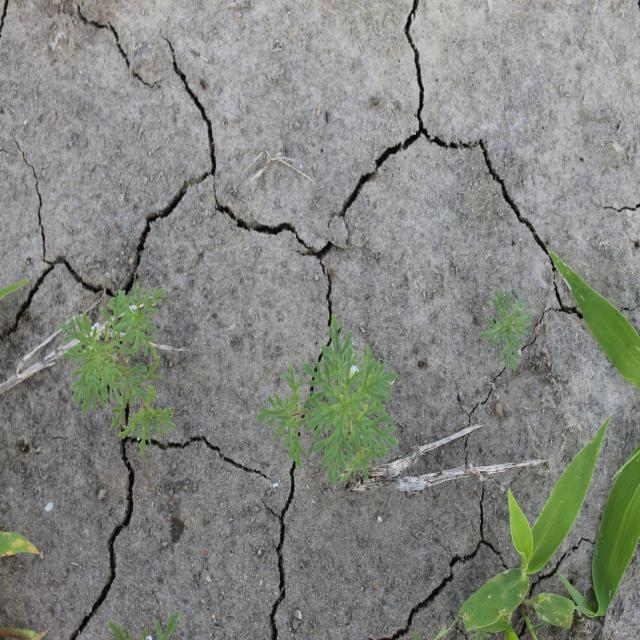Ragweed: (256, 312, 400, 490), (56, 280, 178, 457), (477, 285, 536, 375)
